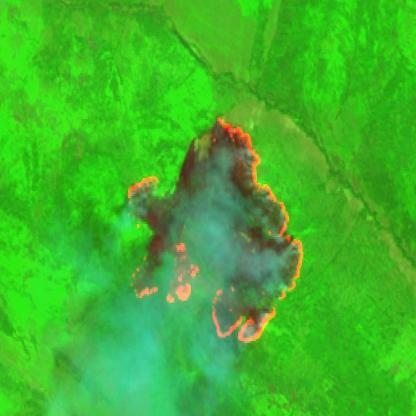fire: (122, 111, 306, 348)
